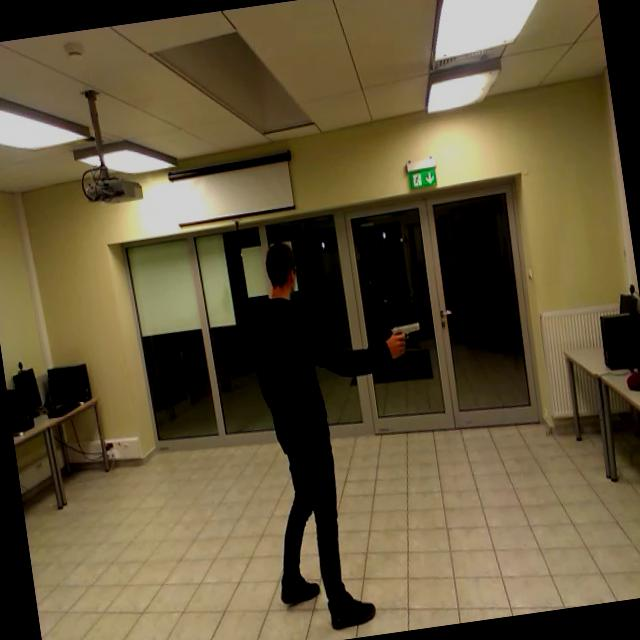handgun: (386, 308, 426, 366)
